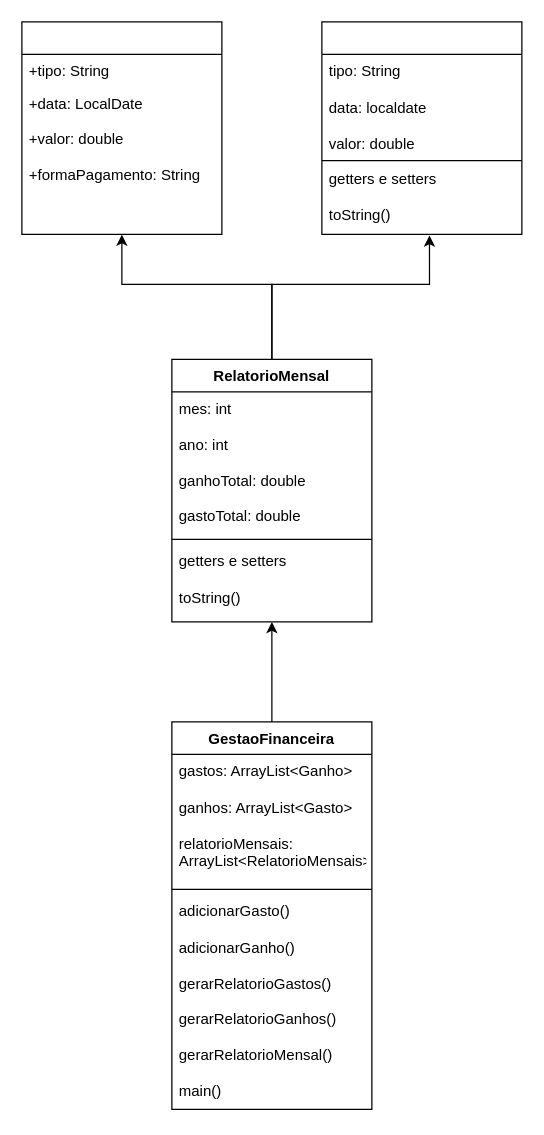
This 544x1135 diagram has some shape labels left out. The shapes that lost their labels are listed below. From the top down, each one's box as (x1, y1, x2, y2) in pixels, then its label:
(21, 21, 222, 234): Gasto
(321, 21, 522, 234): Ganho
